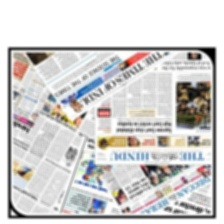news_paper: (95, 44, 214, 165), (21, 50, 184, 121), (0, 103, 86, 215), (11, 51, 103, 145), (101, 163, 213, 217), (57, 131, 119, 216)
